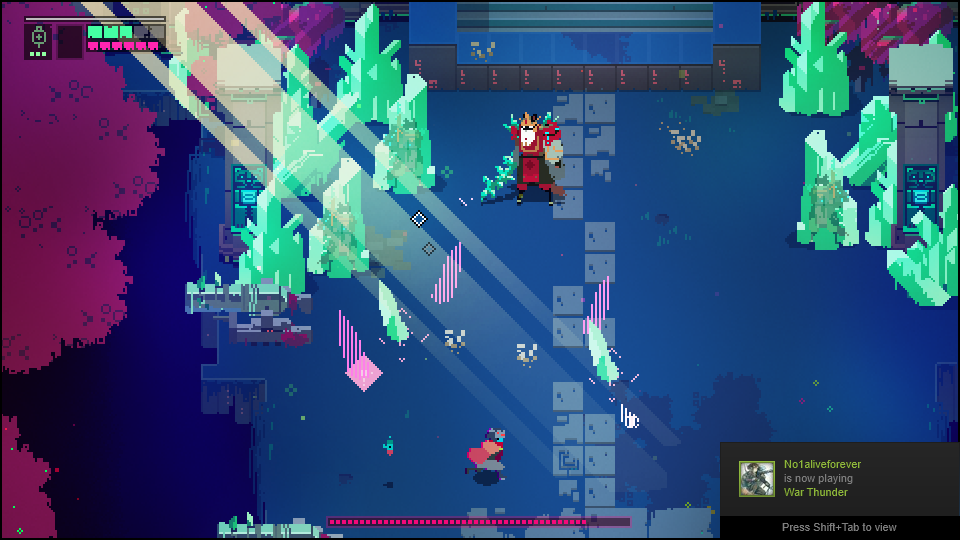hanged_crys: (369, 280, 411, 344), (335, 314, 374, 382), (433, 235, 463, 308), (584, 319, 617, 380)
hanged_man: (478, 104, 576, 215)
player: (467, 426, 508, 484)
